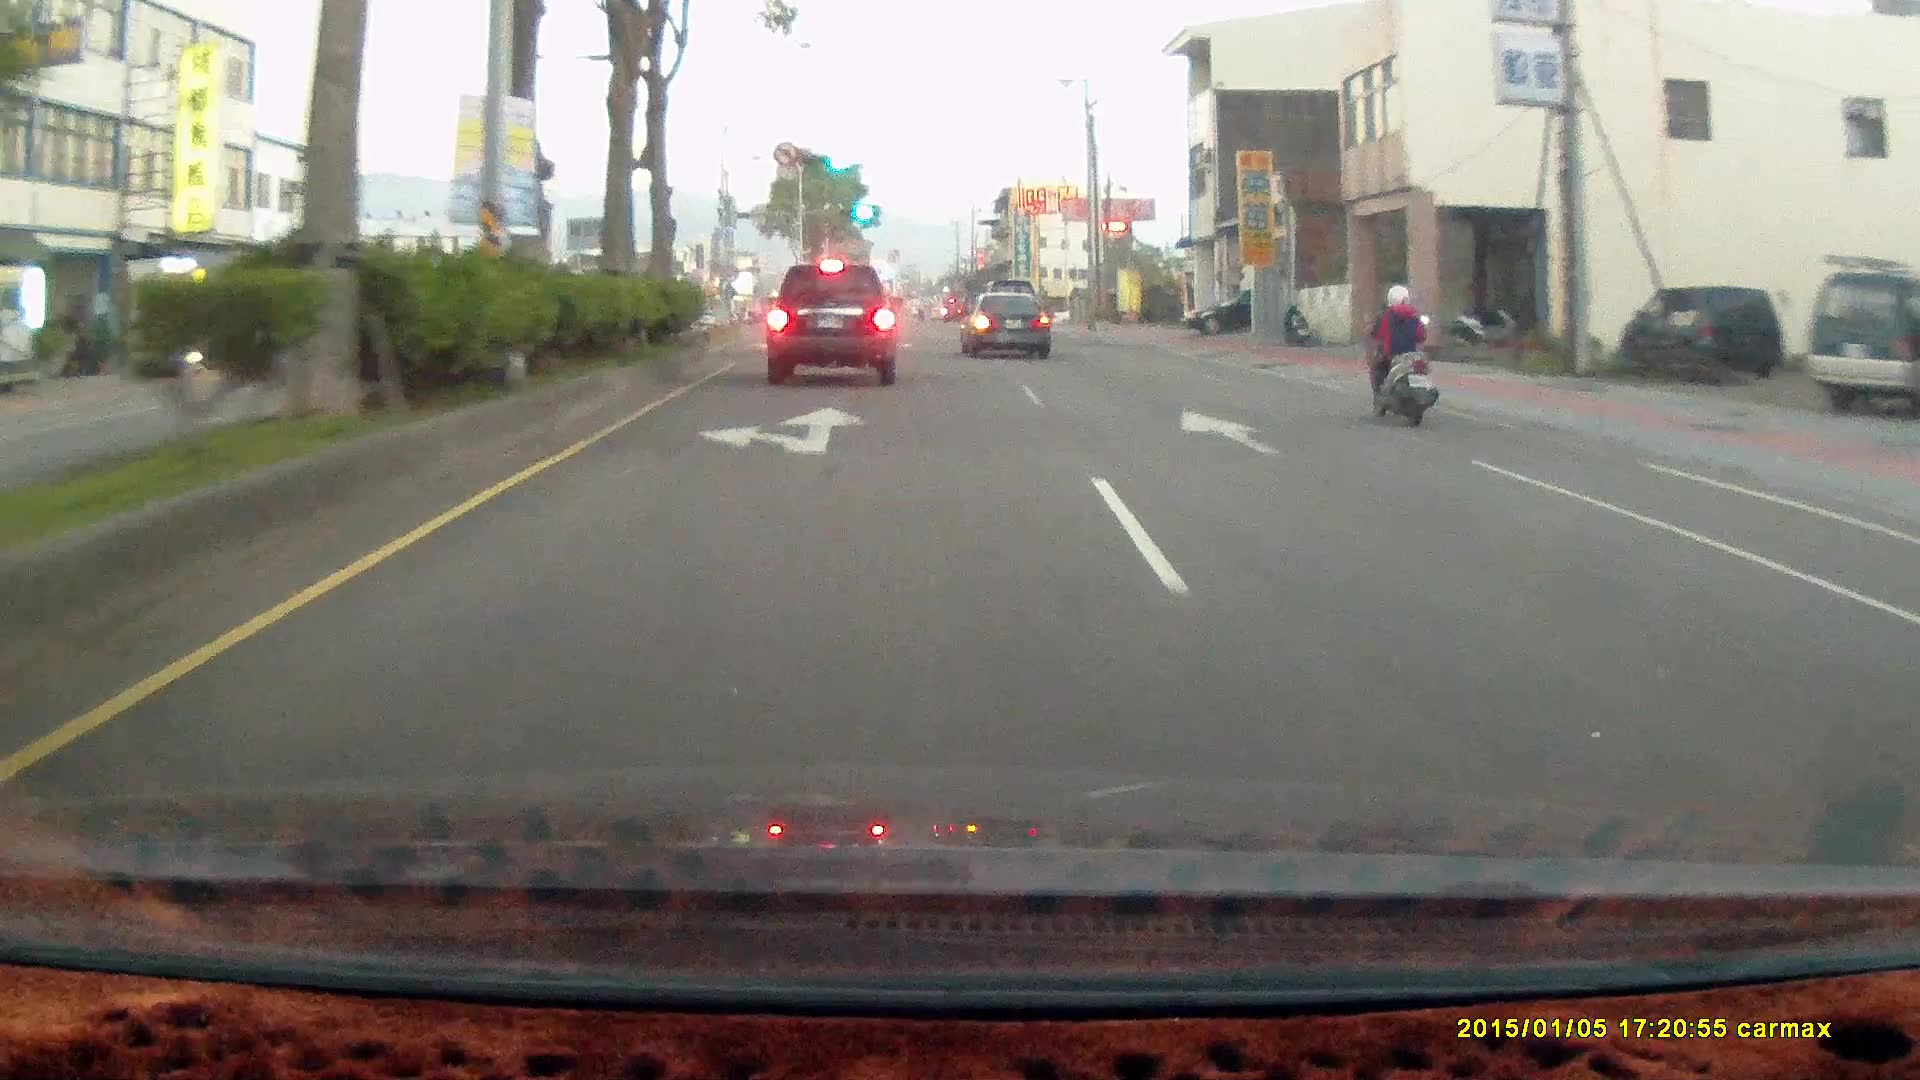rider: (1348, 268, 1450, 437), (1359, 282, 1438, 427)
vehicle: (766, 263, 902, 385), (1617, 282, 1784, 380), (768, 259, 901, 381), (1807, 272, 1920, 415), (1617, 283, 1782, 380), (958, 290, 1055, 363), (1182, 287, 1306, 336), (959, 292, 1049, 358), (1181, 289, 1255, 339)
